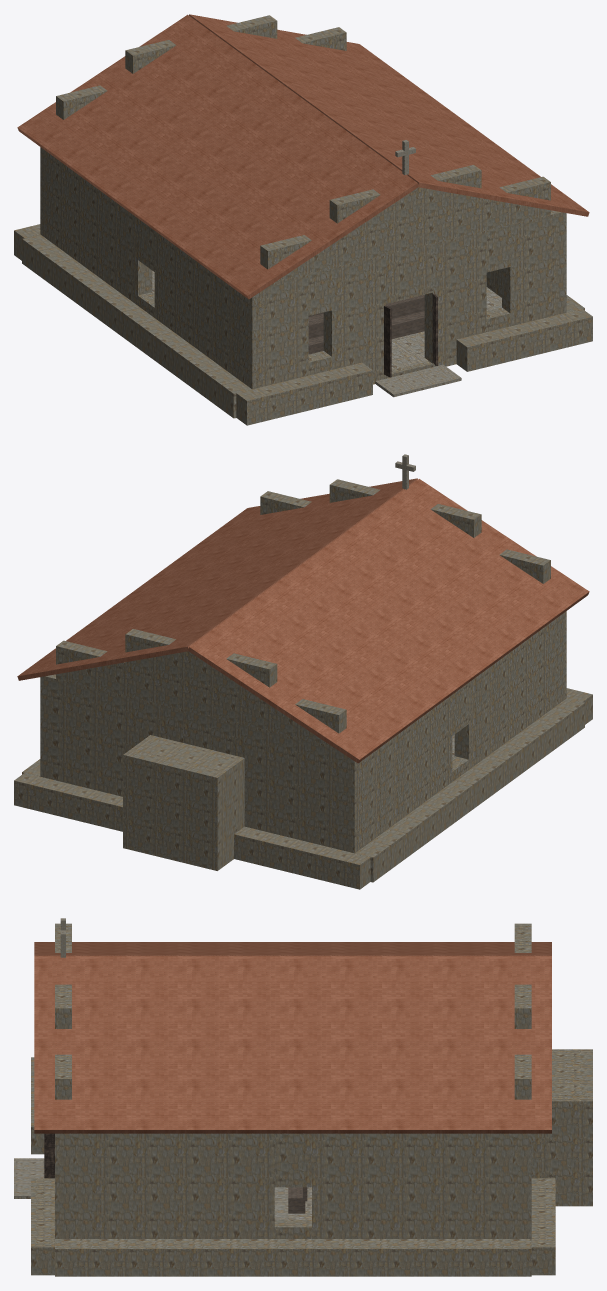
Rendered from prop_hk_trainer_priest.glb.
3 views of the same model, one above another, from view 1: azimuth 30°, elevation 25°; view 2: azimuth 150°, elevation 25°; view 3: azimuth 270°, elevation 25° (orthographic). The views are drawn at different scales.
Visible parts, largest first — view 1: building_hk_trainer_priest; view 2: building_hk_trainer_priest; view 3: building_hk_trainer_priest.
Part boxes in pixels (x1,y1,x2,y2): building_hk_trainer_priest: [14, 14, 592, 425]; building_hk_trainer_priest: [14, 454, 592, 889]; building_hk_trainer_priest: [14, 918, 592, 1276].
Bounding box in the file's own units: 13.4 × 8.45 × 17.
6 materials, 6 textured.
